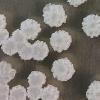white: (50, 58, 75, 82), (43, 2, 66, 28), (81, 14, 100, 44), (50, 30, 71, 53), (21, 18, 39, 41), (0, 61, 18, 83), (33, 40, 48, 62), (0, 36, 18, 54), (85, 80, 100, 100), (27, 71, 47, 86), (11, 29, 26, 48), (19, 42, 33, 61), (25, 86, 44, 100), (42, 85, 59, 100), (10, 85, 27, 100), (0, 82, 10, 100), (0, 29, 10, 46), (66, 0, 88, 6), (0, 12, 7, 29)
